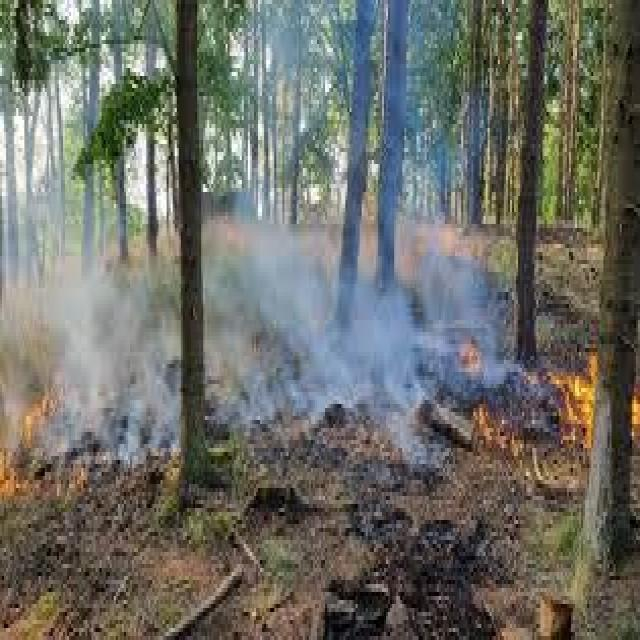Fire: (0, 326, 108, 506), (552, 344, 598, 462), (454, 405, 522, 457), (449, 322, 494, 384)
Smoke: (252, 269, 515, 450), (55, 280, 172, 462)
